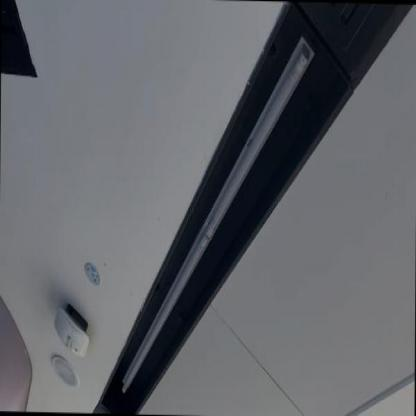light_off: (116, 27, 319, 404)
